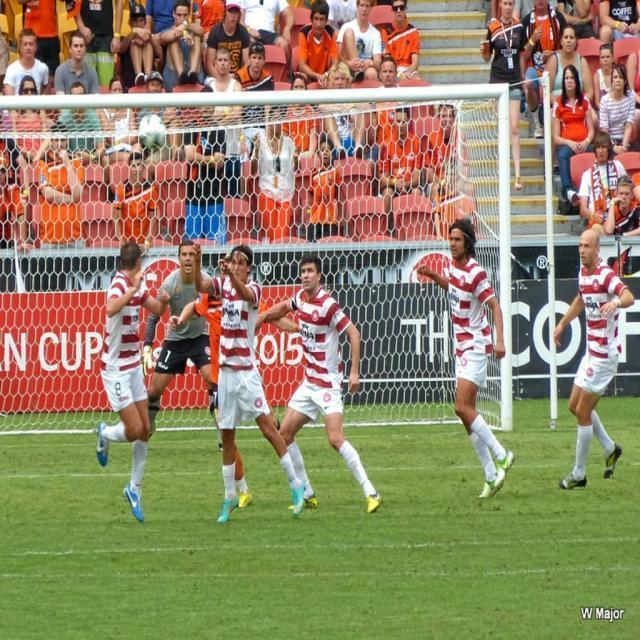ball: (137, 114, 165, 149)
